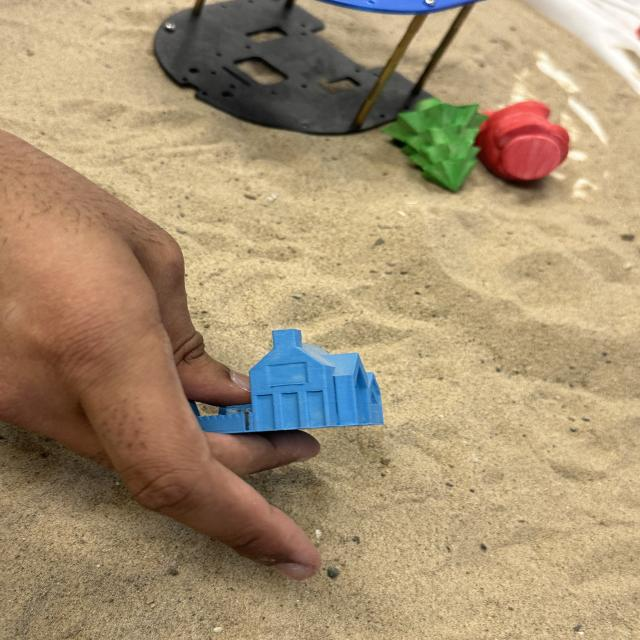fire: (476, 100, 572, 184)
house: (192, 327, 384, 434)
tree: (380, 97, 489, 192)
